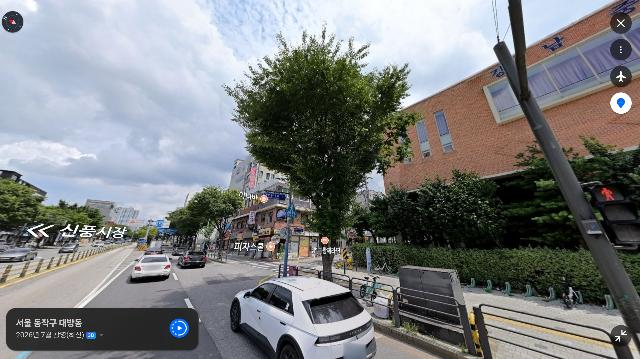other: (221, 22, 424, 284), (502, 139, 600, 252), (416, 166, 512, 252), (576, 134, 640, 257), (169, 183, 245, 257), (370, 179, 448, 251), (0, 178, 50, 248), (36, 200, 106, 249)
